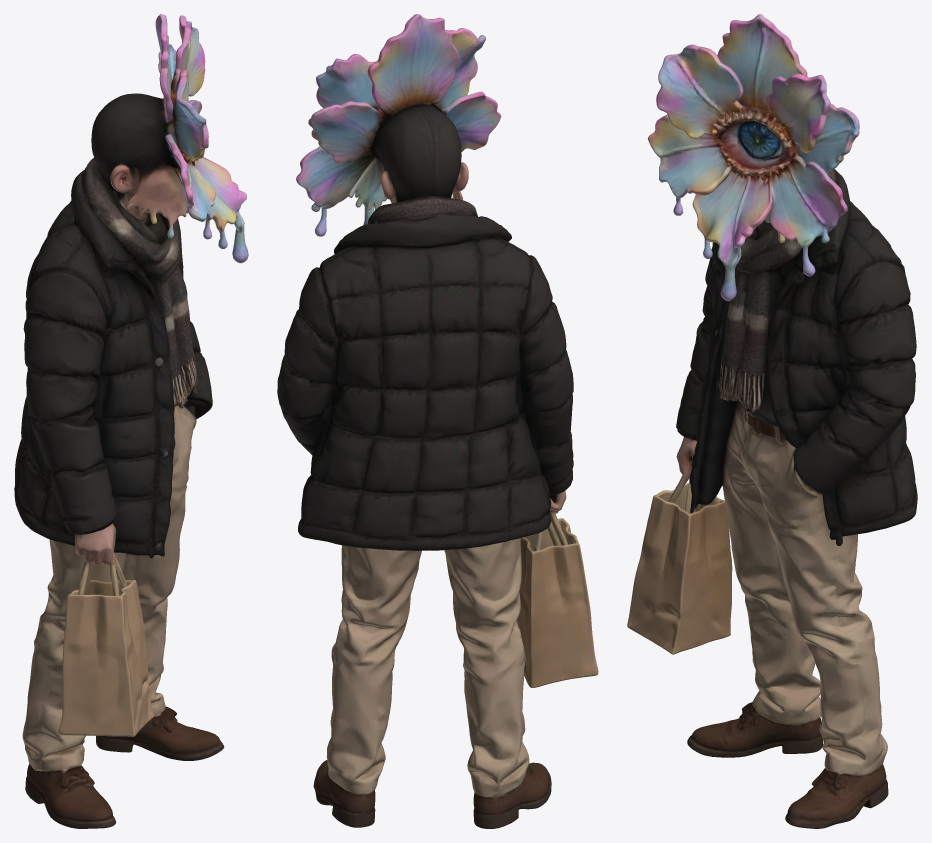
File: oy_pantsful.glb
3 renders of one model, left to right at view 1: azimuth 30°, elevation 25°; view 2: azimuth 150°, elevation 25°; view 3: azimuth 270°, elevation 25°, orthographic.
Visible parts, largest first — view 1: tripo_node_ab100df4-e2fb-44c6-aa03-153c7a090f94; view 2: tripo_node_ab100df4-e2fb-44c6-aa03-153c7a090f94; view 3: tripo_node_ab100df4-e2fb-44c6-aa03-153c7a090f94.
Boxes of the visible parts, box(x1,y1,x2,y2) form: tripo_node_ab100df4-e2fb-44c6-aa03-153c7a090f94: box(14, 14, 248, 828); tripo_node_ab100df4-e2fb-44c6-aa03-153c7a090f94: box(277, 14, 598, 828); tripo_node_ab100df4-e2fb-44c6-aa03-153c7a090f94: box(627, 14, 917, 828).
Bounding box in the file's own units: 0.301 × 1 × 0.3374.
1 material, 1 textured.
